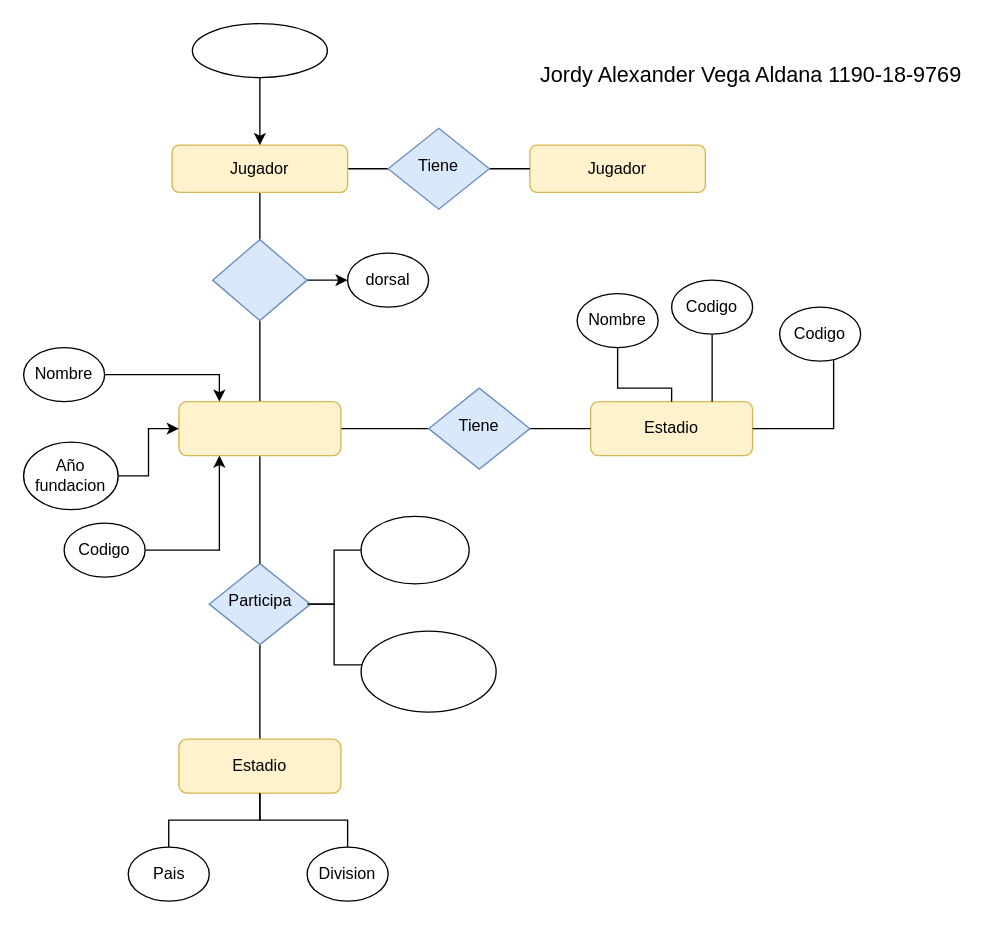
The diagram is 1006 pixels wide and 925 high, and some of its shapes have lost their labels. The shapes that lost their labels are listed below. From the top down, each one's centre as x and y in pixels, then its label:
point 259,50: CodigoJugador
point 259,279: Juega
point 259,428: Equipo
point 414,549: Puntos obtenidos
point 428,671: Posicion en la clasificacion
